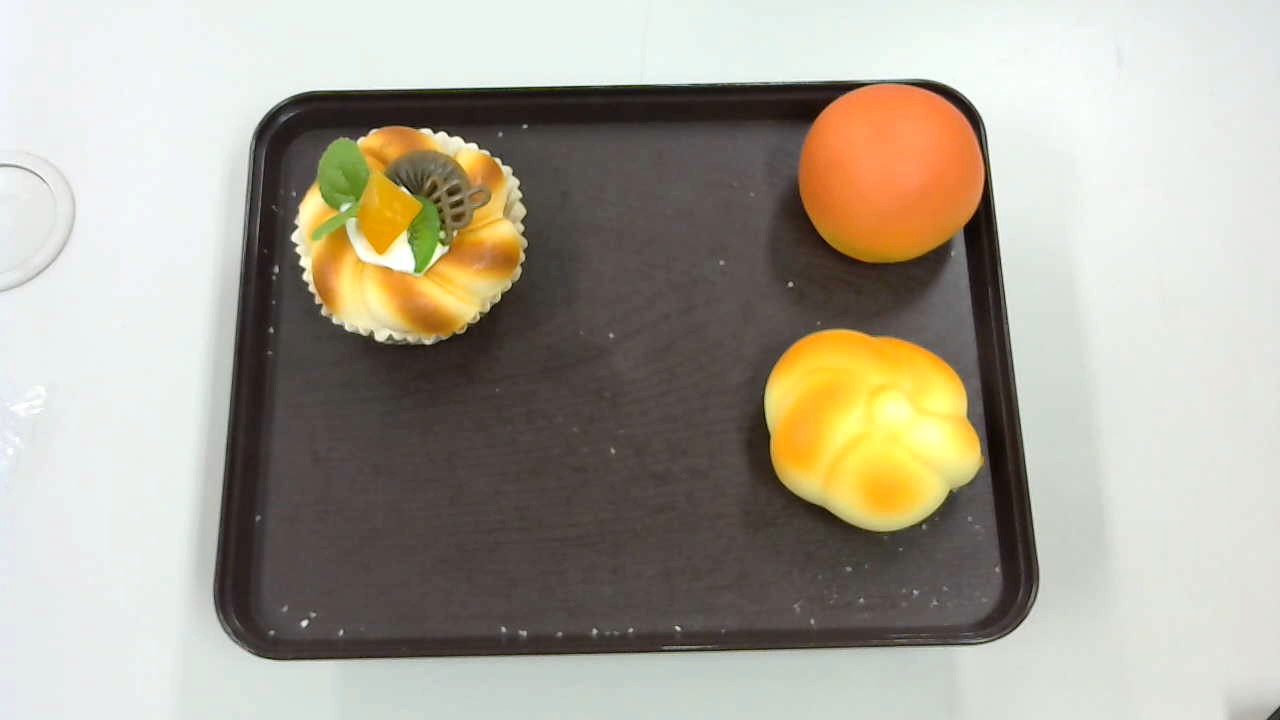bun: (798, 82, 984, 263)
croissant: (765, 329, 983, 535)
fruit tart: (293, 125, 527, 341)
